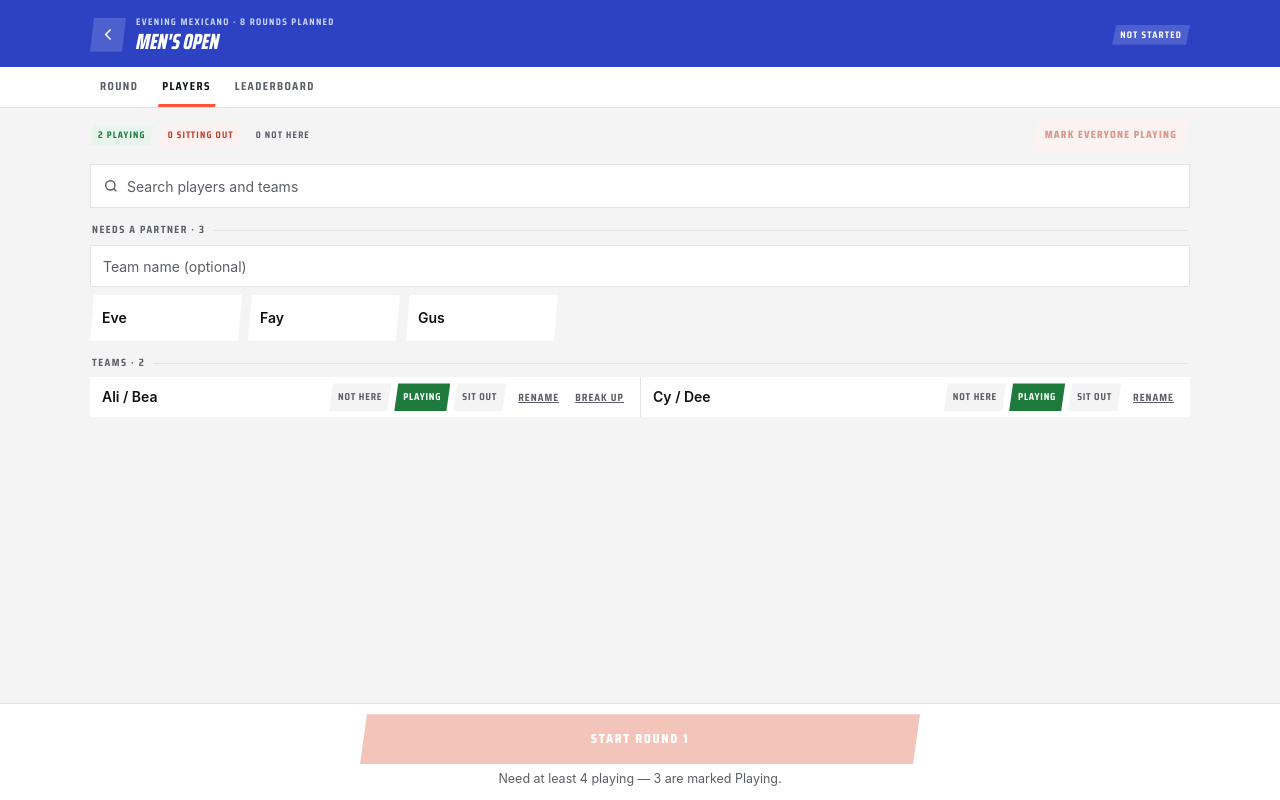
Test: a pick can be taken back from the tray
The image size is (1280, 800).
Expected: the heading "Needs a partner · 3" is shown, [92, 221, 205, 238]
Click the button "Eve" at (166, 318), box [90, 295, 242, 341]
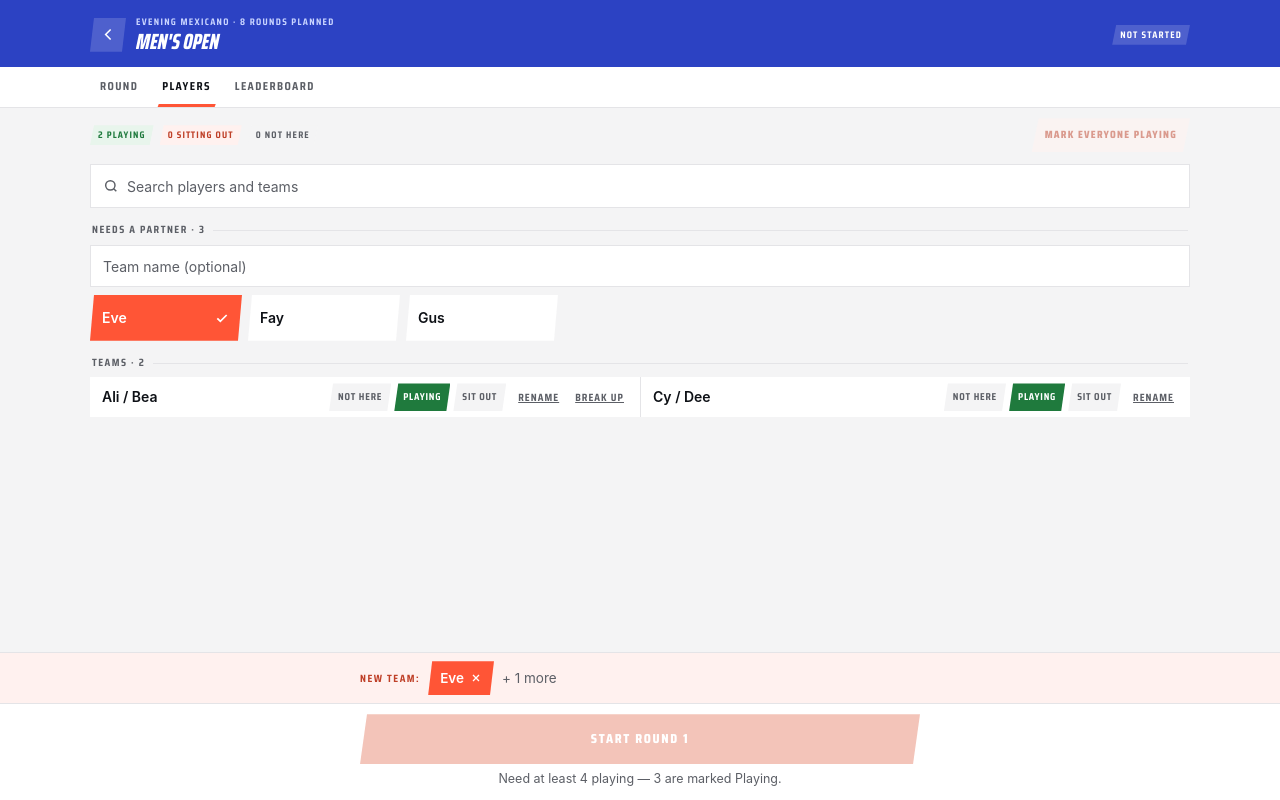
Click the button with aria-label "Remove Eve" at (461, 678), box [428, 661, 494, 695]
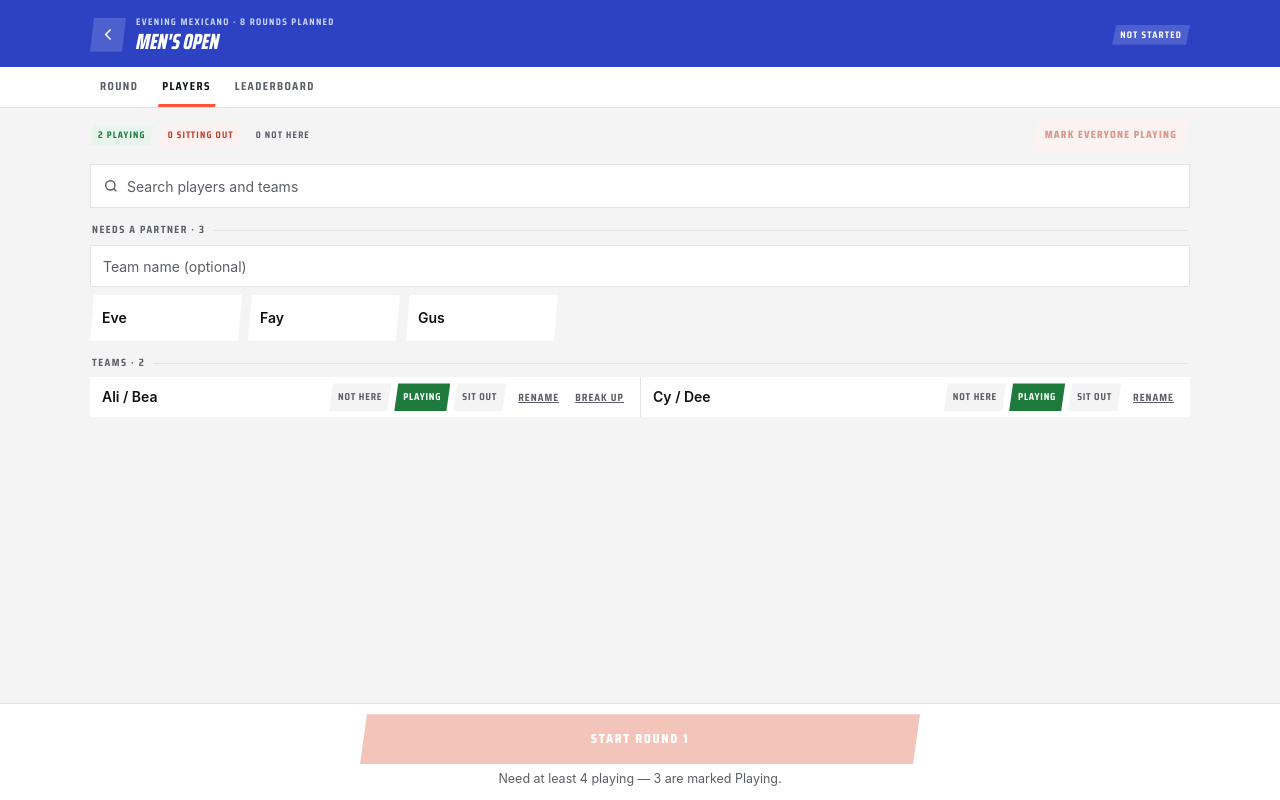
Result: the text "New team" is gone
